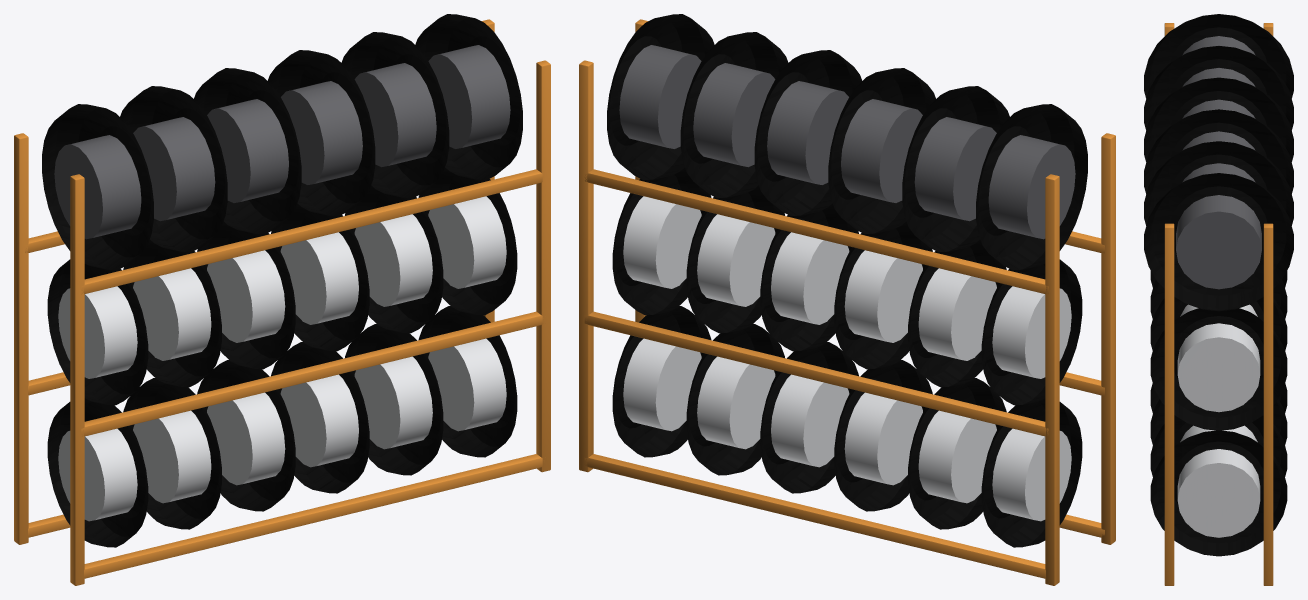
Rendered from g_tirerack.fbx.
3 renders of one model, left to right at view 1: azimuth 30°, elevation 25°; view 2: azimuth 150°, elevation 25°; view 3: azimuth 270°, elevation 25°, orthographic. The views are drawn at different scales.
Visible parts, largest first — view 1: g_tirerack_tread, g_tirerack_alu, g_tirerack_orange, g_tirerack_darksteel; view 2: g_tirerack_tread, g_tirerack_alu, g_tirerack_orange, g_tirerack_darksteel; view 3: g_tirerack_tread, g_tirerack_alu, g_tirerack_darksteel, g_tirerack_orange.
Boxes of the visible parts, bbox=[...] form: g_tirerack_tread: bbox=[42, 14, 522, 547]; g_tirerack_alu: bbox=[58, 196, 506, 521]; g_tirerack_orange: bbox=[14, 19, 550, 585]; g_tirerack_darksteel: bbox=[54, 45, 510, 239]; g_tirerack_tread: bbox=[607, 14, 1087, 547]; g_tirerack_alu: bbox=[623, 196, 1071, 521]; g_tirerack_orange: bbox=[579, 19, 1115, 585]; g_tirerack_darksteel: bbox=[619, 45, 1075, 239]; g_tirerack_tread: bbox=[1144, 14, 1293, 556]; g_tirerack_alu: bbox=[1177, 304, 1260, 537]; g_tirerack_darksteel: bbox=[1176, 36, 1261, 289]; g_tirerack_orange: bbox=[1164, 23, 1273, 585].
Size of the model in its own units: 2.45 by 2.17 by 0.756.
Materials: 4 (1 with a texture image).
